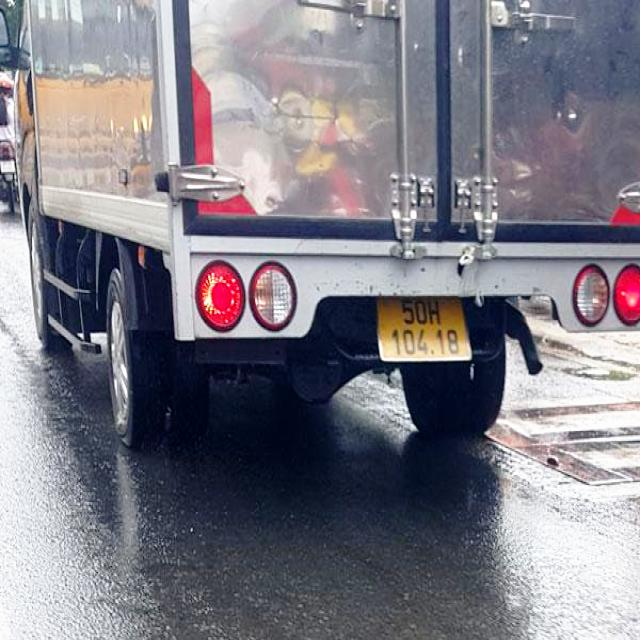license_plate: (378, 297, 477, 362)
